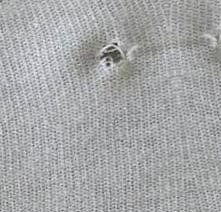hole: (95, 41, 129, 71)
